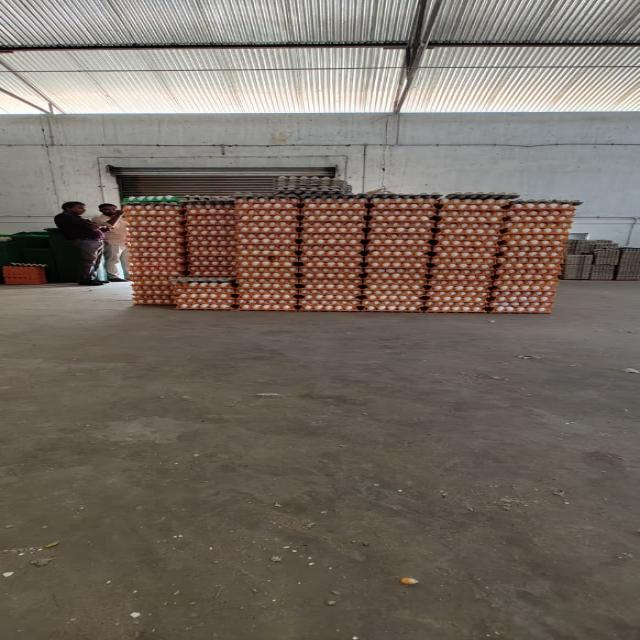egg_tray: (434, 200, 574, 286), (490, 203, 574, 312), (427, 200, 507, 312), (427, 200, 501, 312), (364, 196, 435, 311), (296, 196, 366, 310), (299, 196, 365, 310), (236, 198, 299, 310), (427, 234, 498, 312), (239, 266, 361, 310), (297, 232, 365, 310), (366, 196, 435, 272), (236, 198, 299, 281), (432, 199, 507, 268), (126, 204, 185, 289), (497, 203, 573, 268), (490, 246, 562, 312), (365, 210, 433, 277), (492, 246, 560, 312), (430, 210, 503, 270), (236, 210, 299, 278), (363, 278, 488, 312), (236, 243, 298, 310), (300, 198, 366, 258), (364, 248, 427, 310), (367, 222, 431, 280), (238, 221, 298, 282), (298, 222, 364, 276), (187, 203, 235, 276), (365, 220, 432, 272), (128, 244, 186, 304), (128, 246, 186, 304), (427, 248, 494, 298), (493, 244, 562, 290), (488, 268, 558, 312), (427, 266, 493, 312), (296, 266, 364, 310), (490, 267, 556, 312), (235, 208, 297, 255), (297, 267, 364, 310), (504, 202, 575, 240), (235, 198, 299, 238), (300, 213, 364, 250), (235, 245, 298, 282), (297, 277, 363, 311), (361, 278, 426, 312), (126, 204, 183, 242), (298, 244, 365, 276), (238, 245, 299, 280), (367, 198, 438, 228), (129, 220, 184, 257), (298, 242, 365, 272), (427, 280, 489, 312), (126, 231, 186, 264), (300, 197, 367, 226), (236, 278, 296, 310), (236, 279, 296, 310), (236, 216, 298, 246), (424, 284, 489, 312), (437, 198, 509, 223), (363, 246, 432, 272), (371, 195, 439, 221), (301, 222, 364, 250), (435, 200, 508, 224), (128, 252, 186, 282), (128, 227, 184, 258), (488, 286, 554, 312), (238, 256, 297, 285), (128, 256, 186, 285), (174, 282, 234, 310), (129, 264, 185, 294), (428, 246, 498, 270), (301, 196, 367, 221), (300, 209, 365, 234), (128, 266, 186, 293), (367, 212, 435, 235), (128, 208, 183, 236), (235, 208, 299, 232), (503, 226, 567, 250), (235, 196, 299, 220), (495, 246, 563, 268), (130, 248, 186, 274), (489, 281, 558, 302), (363, 276, 428, 298), (189, 245, 235, 276), (489, 280, 559, 300), (433, 232, 499, 253), (128, 211, 183, 236), (504, 214, 571, 234), (238, 278, 296, 301), (187, 216, 234, 244), (300, 196, 368, 215), (130, 241, 186, 264), (295, 293, 362, 312), (440, 197, 510, 215), (424, 280, 493, 298), (185, 203, 234, 228), (296, 276, 364, 294), (366, 268, 427, 288), (503, 231, 566, 250), (187, 203, 234, 228), (122, 203, 181, 222), (133, 276, 173, 304), (186, 201, 234, 224), (492, 280, 559, 296), (509, 200, 573, 216), (133, 279, 173, 304), (133, 274, 183, 294), (295, 298, 362, 312), (188, 256, 234, 276), (429, 294, 479, 312), (495, 296, 550, 312), (362, 298, 423, 312), (492, 298, 552, 312), (424, 300, 488, 312), (616, 248, 639, 280), (426, 300, 486, 312), (132, 287, 172, 305), (238, 300, 297, 311), (133, 290, 173, 305), (238, 300, 296, 310), (446, 256, 487, 268), (619, 248, 639, 268), (121, 204, 139, 220), (616, 269, 639, 280), (540, 299, 547, 307), (401, 214, 419, 217), (302, 228, 308, 232), (274, 202, 280, 205), (431, 300, 440, 302), (243, 214, 251, 216), (266, 221, 271, 224), (405, 198, 412, 200), (461, 266, 467, 268), (432, 270, 437, 272), (157, 302, 166, 303), (501, 249, 508, 250), (520, 300, 523, 302), (545, 308, 548, 310), (128, 240, 130, 242), (489, 296, 490, 300), (172, 209, 174, 211), (491, 242, 492, 244), (166, 218, 168, 219), (406, 216, 410, 216), (336, 216, 336, 217), (158, 284, 158, 286), (275, 210, 278, 210), (158, 243, 158, 243), (418, 212, 419, 212), (468, 248, 472, 248), (359, 236, 362, 236)
